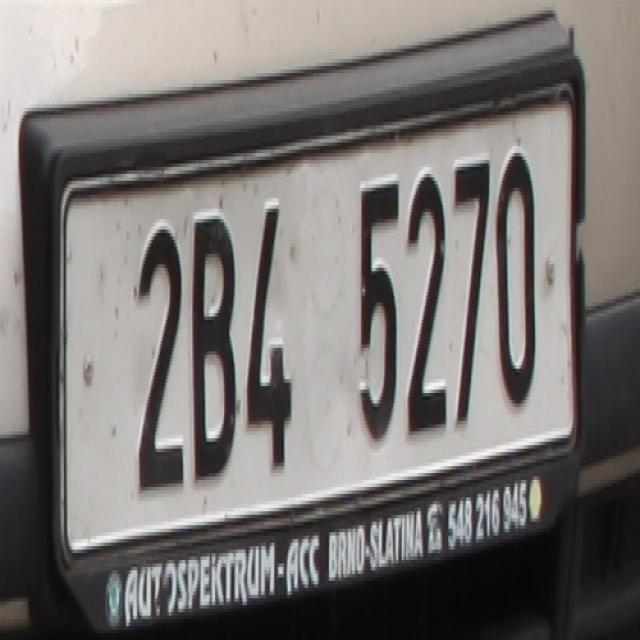0: (494, 143, 536, 414)
2: (134, 212, 187, 494), (404, 170, 450, 432)
4: (244, 198, 294, 473)
5: (356, 170, 400, 438)
7: (453, 152, 493, 432)
B: (190, 202, 240, 487)
